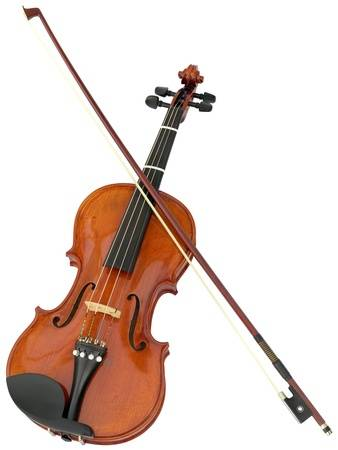Fiddle: (18, 5, 332, 446)
